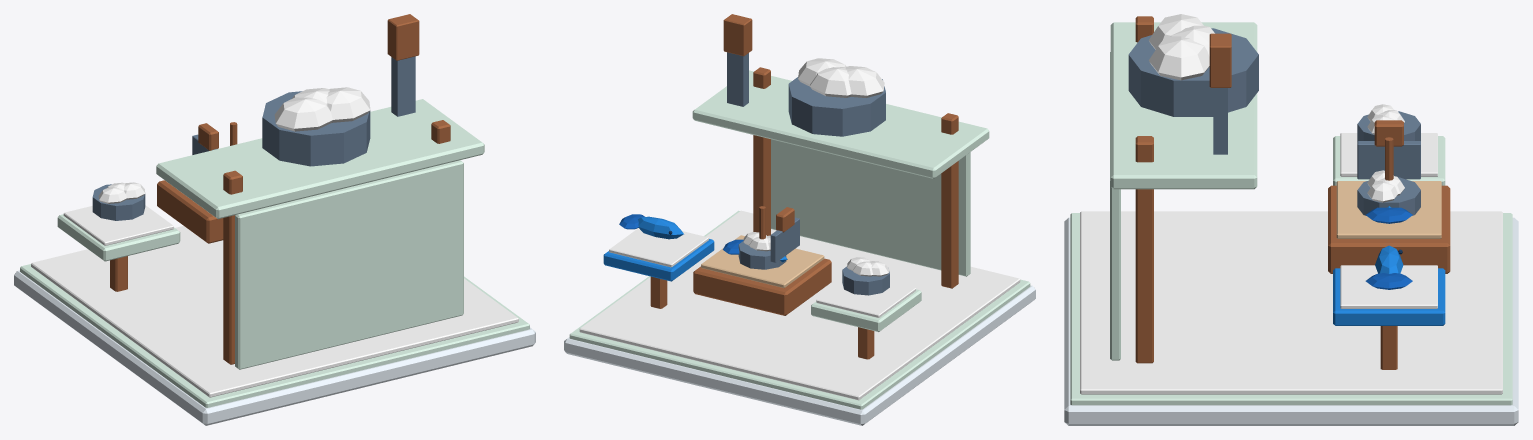
Rendered from Building_Preparation_2x2_v002.fbx.
3 renders of one model, left to right at view 1: azimuth 30°, elevation 25°; view 2: azimuth 150°, elevation 25°; view 3: azimuth 270°, elevation 25°, orthographic. The views are drawn at different scales.
Parts seen in each view (by area): view 1: FixedShell, OutputItemMesh, WorkingPartMesh; view 2: FixedShell, OutputItemMesh, WorkingPartMesh, ProcessFinishedMesh, InputItemMesh; view 3: FixedShell, WorkingPartMesh, ProcessFinishedMesh, OutputItemMesh, InputItemMesh, ProcessRawMesh.
Part boxes in pixels (<box>): FixedShell: <box>14,14,535,425</box>; OutputItemMesh: <box>92,182,145,220</box>; WorkingPartMesh: <box>192,123,218,154</box>; FixedShell: <box>564,14,1035,425</box>; OutputItemMesh: <box>842,257,889,295</box>; WorkingPartMesh: <box>770,207,799,262</box>; ProcessFinishedMesh: <box>738,232,786,269</box>; InputItemMesh: <box>619,214,683,239</box>; FixedShell: <box>1064,14,1518,425</box>; WorkingPartMesh: <box>1357,120,1420,179</box>; ProcessFinishedMesh: <box>1357,170,1420,215</box>; OutputItemMesh: <box>1357,104,1420,141</box>; InputItemMesh: <box>1365,245,1412,289</box>; ProcessRawMesh: <box>1366,206,1412,223</box>.
Size of the model in its own units: 186 by 158 by 186.
